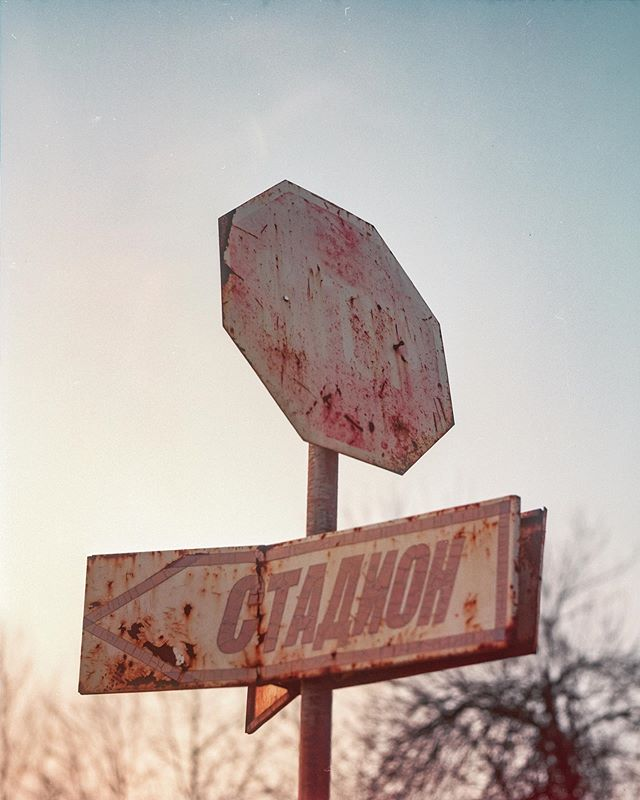sign: (91, 480, 568, 719), (179, 169, 497, 507)
sky: (1, 1, 616, 603)
